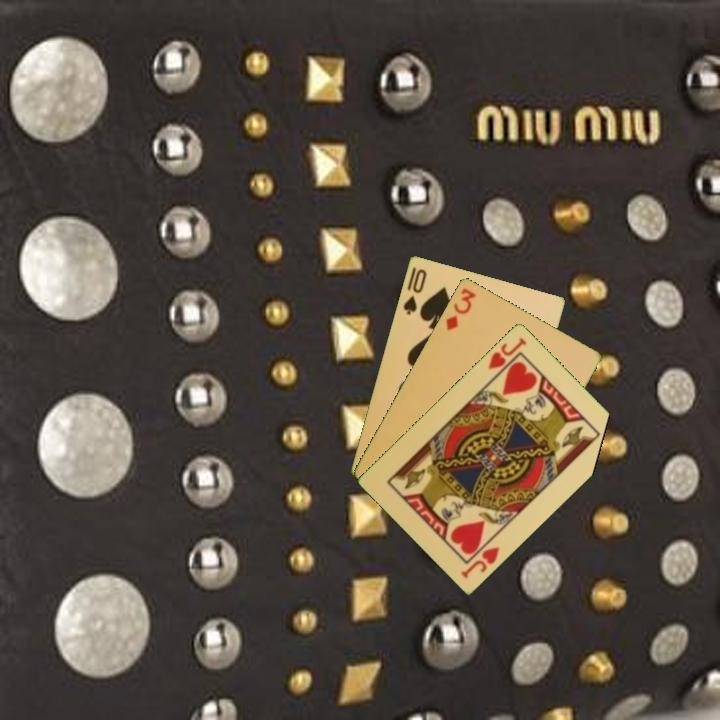10s: (399, 265, 430, 317)
3d: (442, 284, 479, 333)
Jh: (484, 333, 530, 372), (457, 543, 502, 581)
